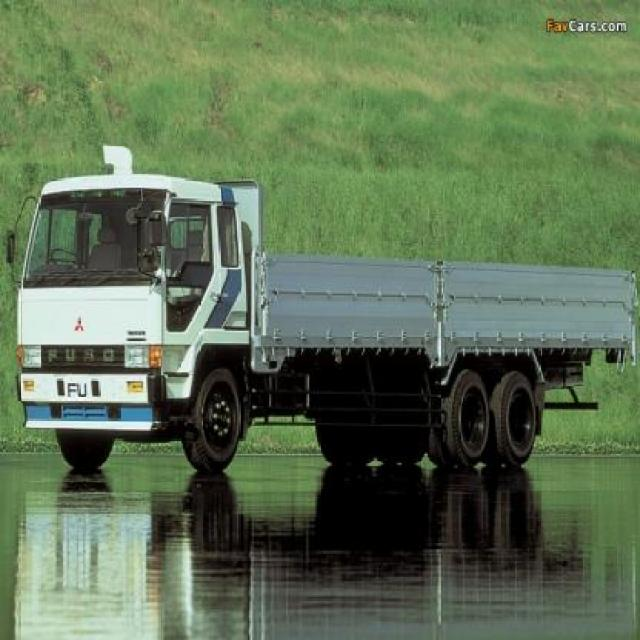truck: (10, 144, 633, 470)
